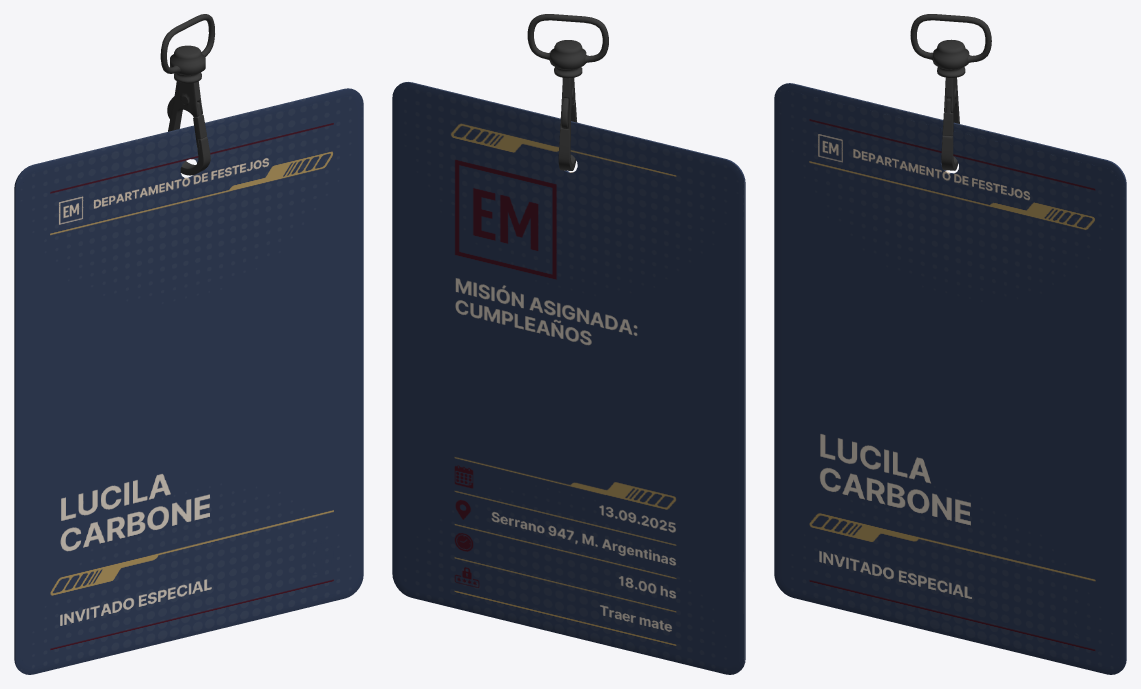
File: lucila-carbone.glb
3 renders of one model, left to right at view 1: azimuth 30°, elevation 25°; view 2: azimuth 150°, elevation 25°; view 3: azimuth 330°, elevation 25°, orthographic.
Visible parts, largest first — view 1: card, clamp, clip; view 2: card, clip, clamp; view 3: card, clip, clamp.
Part boxes in pixels (x1=…): card: x1=14, y1=88, x2=363, y2=674; clamp: x1=167, y1=81, x2=210, y2=175; clip: x1=160, y1=14, x2=214, y2=83; card: x1=392, y1=82, x2=745, y2=674; clip: x1=527, y1=14, x2=608, y2=78; clamp: x1=558, y1=77, x2=577, y2=170; card: x1=774, y1=83, x2=1126, y2=674; clip: x1=910, y1=14, x2=991, y2=77; clamp: x1=941, y1=77, x2=959, y2=170.
Size of the model in its own units: 0.7164 by 1.21 by 0.0903.
2 materials, 1 textured.
